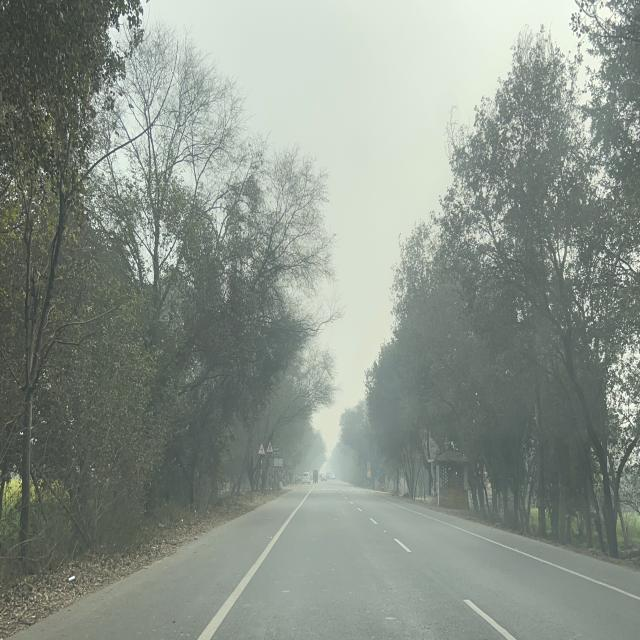INFORMATION: (273, 446, 280, 456)
PEDESTRIAN_CROSSING: (267, 441, 274, 452)
SIDE_ROAD_LEFT: (258, 442, 266, 455)
